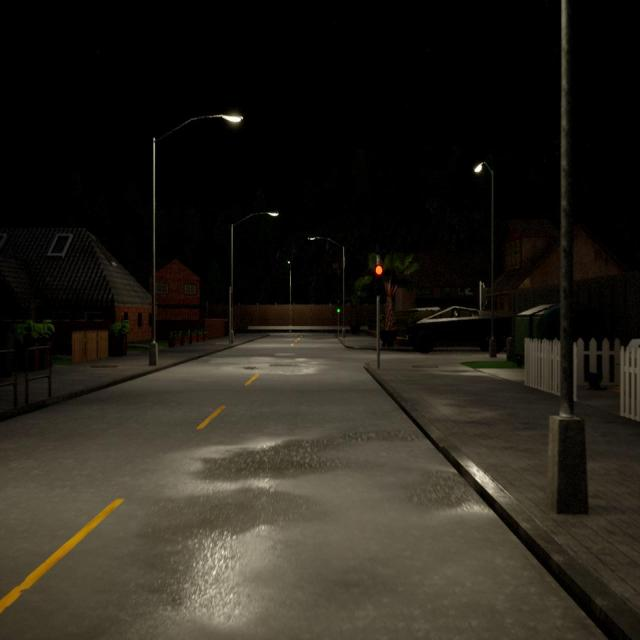Vehicle: (412, 308, 502, 352)
traffic_light: (373, 264, 384, 293), (481, 287, 488, 305), (336, 303, 341, 314), (231, 292, 233, 307)
